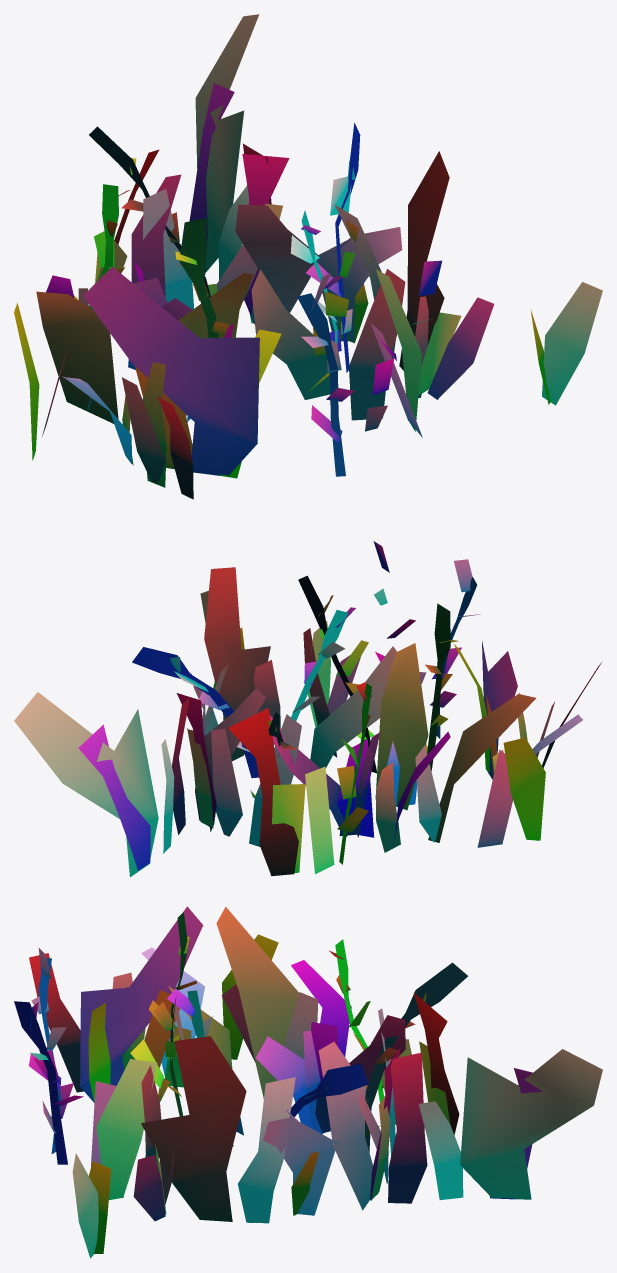
The model's file is Matted_Pratia_uegjcflia_Mid_uegjcflia_VarH_LOD1.fbx.
The picture shows the model from 3 angles, top to bottom: view 1: azimuth 30°, elevation 25°; view 2: azimuth 150°, elevation 25°; view 3: azimuth 270°, elevation 25°; orthographic projection. The views are drawn at different scales.
Parts seen in each view (by area): view 1: _1a51_VarH_LOD2; view 2: _1a51_VarH_LOD2; view 3: _1a51_VarH_LOD2.
Part boxes in pixels (<box>): _1a51_VarH_LOD2: <box>14,14,602,499</box>; _1a51_VarH_LOD2: <box>14,541,602,877</box>; _1a51_VarH_LOD2: <box>14,906,602,1258</box>.
Size of the model in its own units: 17.55 by 8.05 by 19.69.
